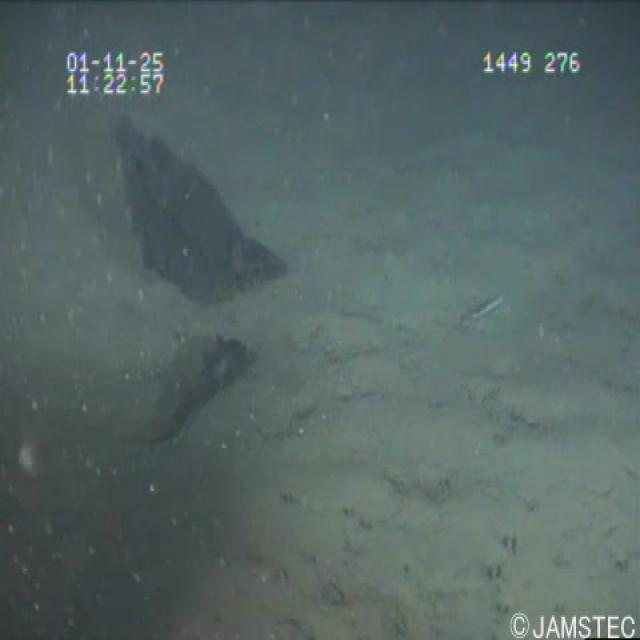plastic: (105, 96, 304, 318)
